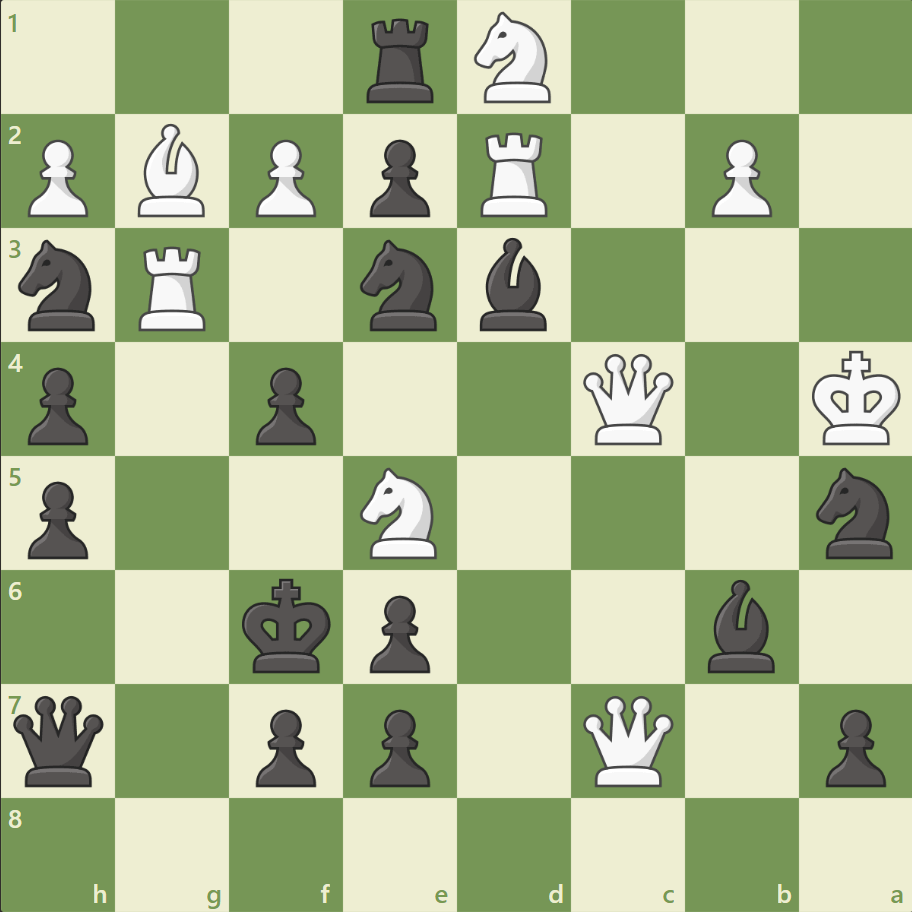B: (131, 120, 215, 222)
K: (806, 344, 906, 452)
N: (351, 461, 449, 564), (465, 7, 562, 110)
P: (701, 132, 776, 223), (247, 132, 322, 223), (20, 132, 95, 223)
Q: (578, 349, 677, 449), (578, 690, 677, 789)
R: (473, 125, 556, 222), (133, 239, 215, 336)
b: (471, 233, 555, 336), (698, 574, 782, 676)
k: (238, 571, 338, 679)
n: (351, 234, 449, 337), (806, 461, 903, 564), (11, 234, 108, 337)
p: (247, 700, 322, 791), (20, 473, 95, 564), (247, 359, 322, 450), (20, 359, 95, 450), (815, 700, 889, 791), (361, 700, 435, 791), (361, 586, 435, 677), (361, 132, 435, 223)
q: (10, 690, 109, 789)
r: (360, 12, 442, 109)
